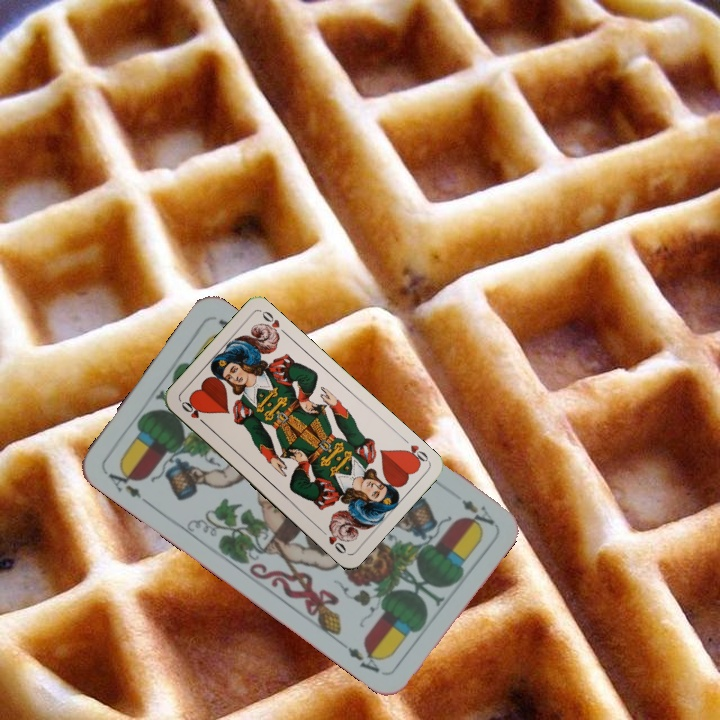EA: (101, 462, 152, 508), (457, 495, 497, 529)
HO: (177, 397, 210, 429), (399, 441, 431, 468)
